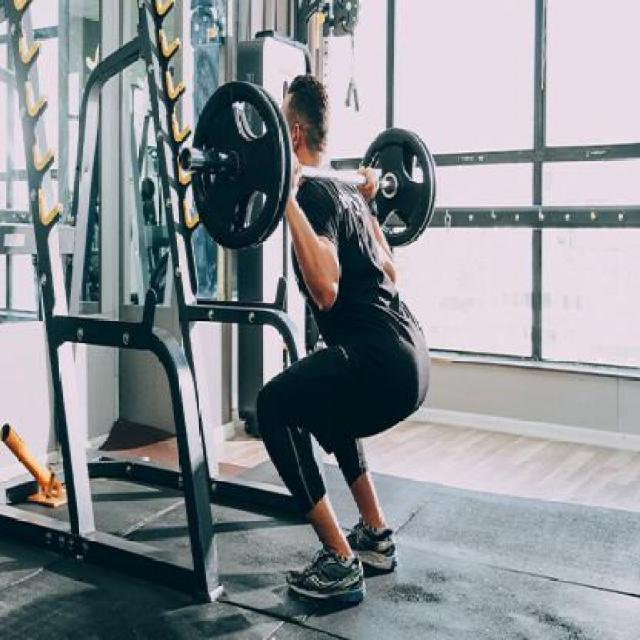Barbell: (178, 144, 195, 176)
